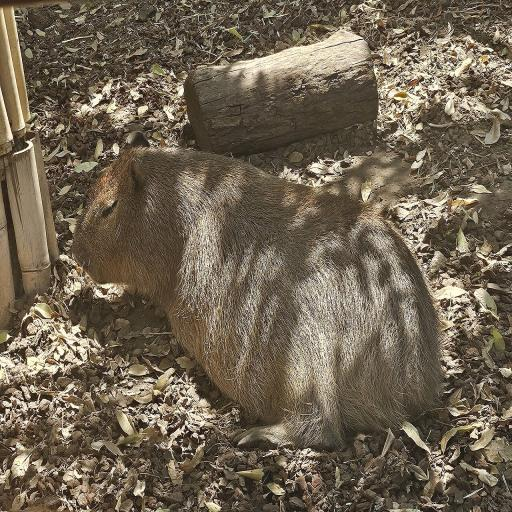capybara: (73, 148, 441, 447)
